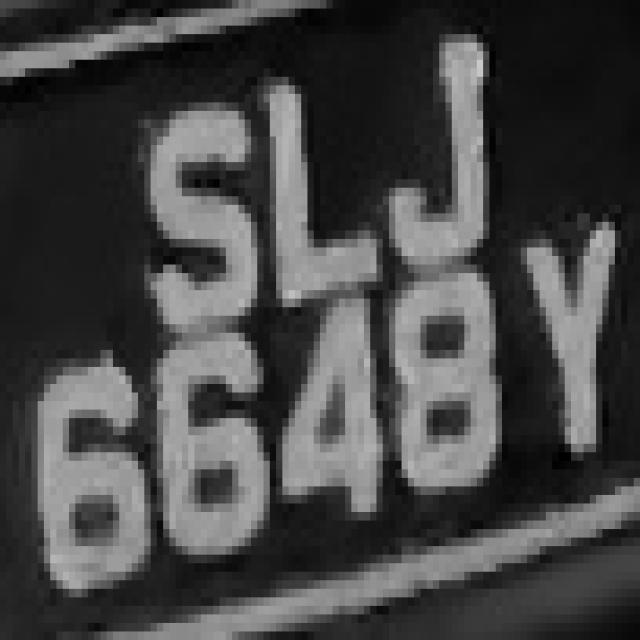4: (257, 273, 389, 555)
6: (157, 308, 282, 598), (31, 333, 157, 614)
8: (383, 239, 502, 520)
J: (358, 34, 502, 273)
L: (251, 51, 389, 316)
S: (119, 85, 257, 350)
Y: (508, 205, 621, 478)
